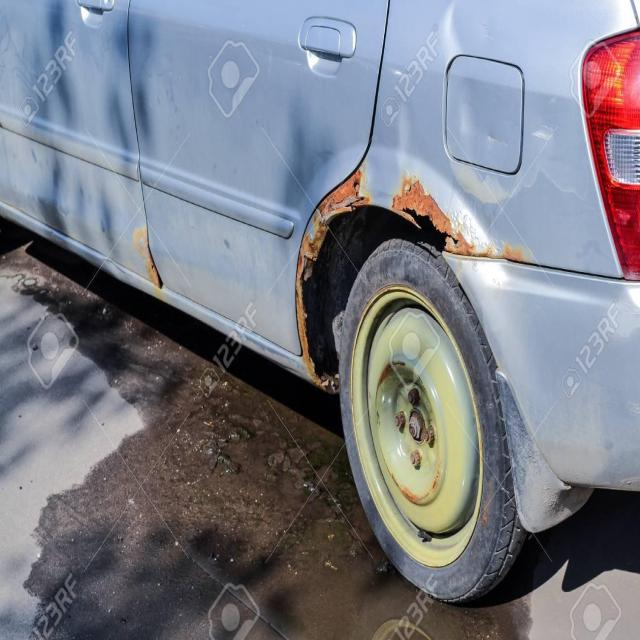Crevice Corrosion: (296, 168, 370, 389), (390, 177, 522, 259), (134, 226, 161, 287)
